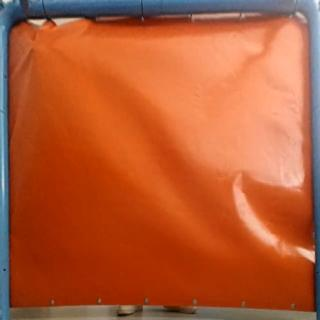Hit-hRxx: (24, 38, 42, 56)
